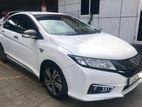car: (0, 11, 142, 101)
